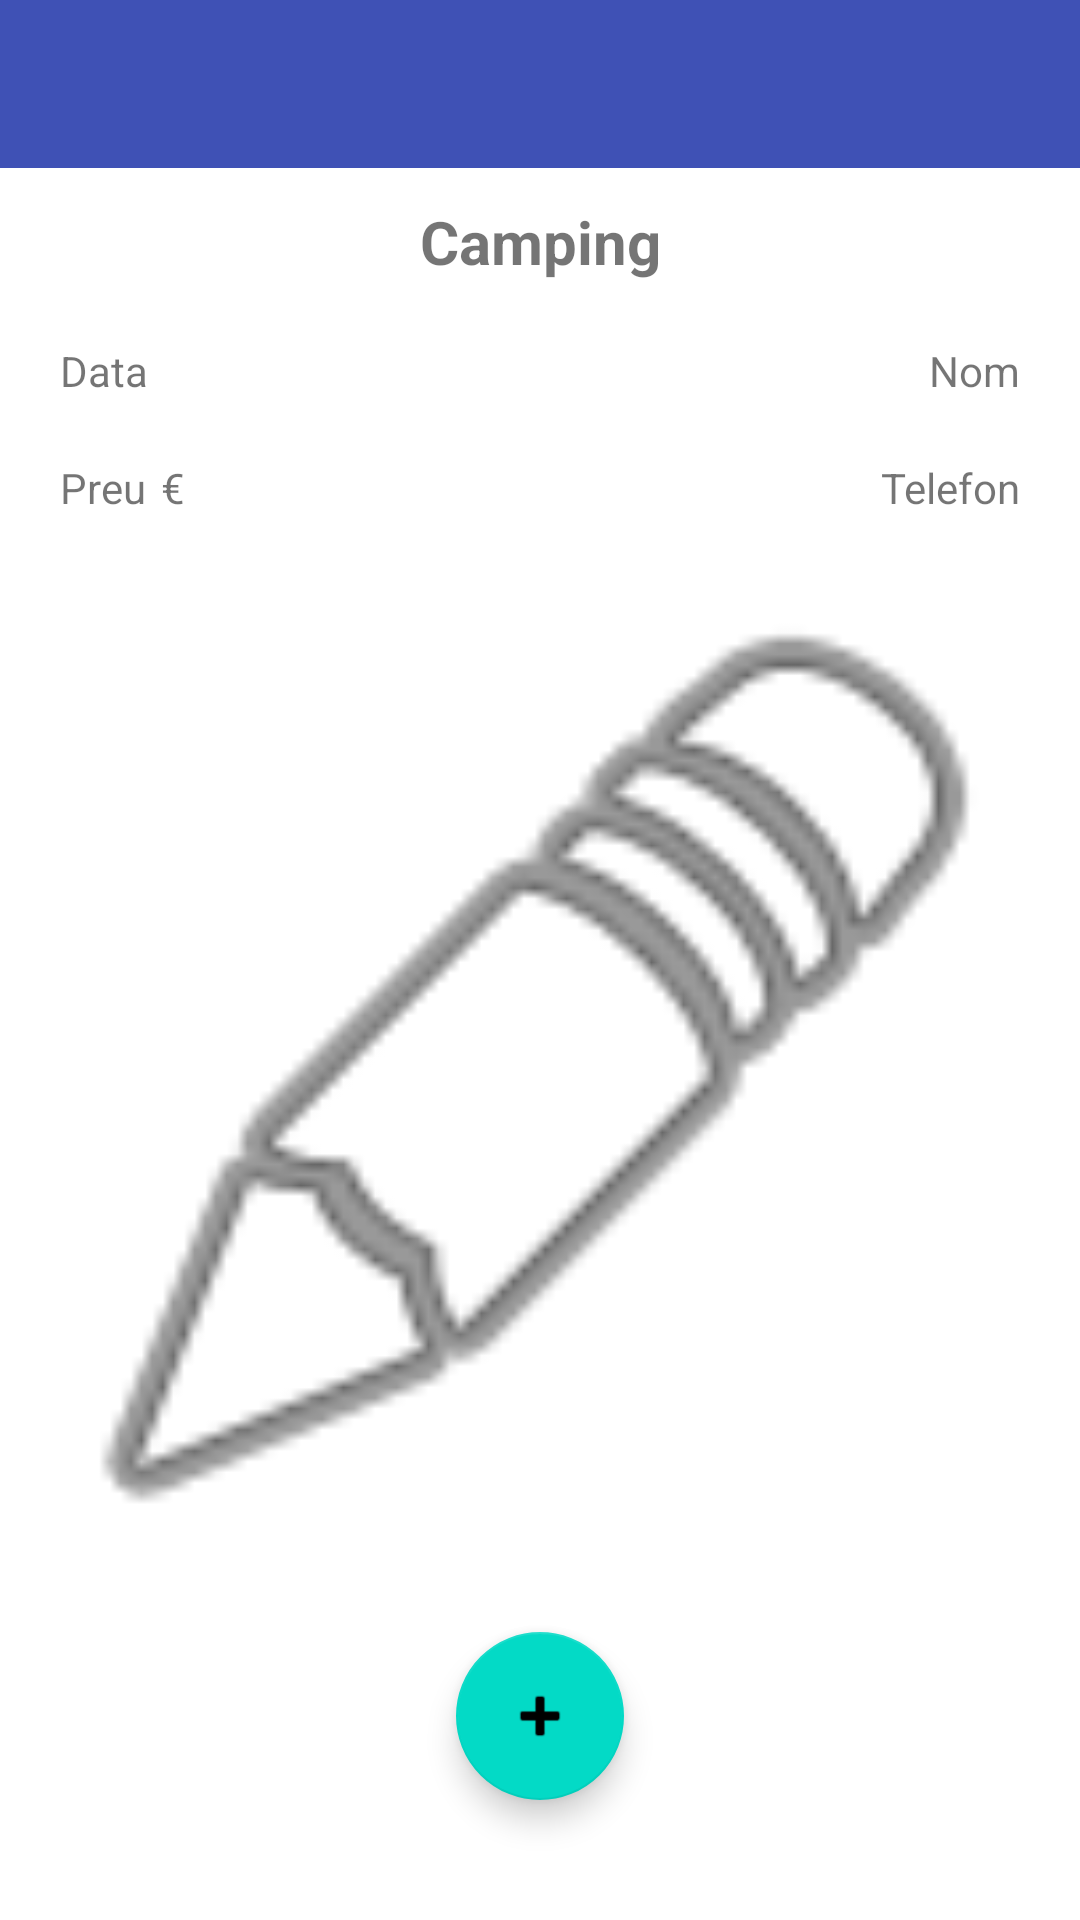

Screen size 1080w x 1920h. Icon name, then its center in pixels as (x=x, y=y):
add: (x=540, y=1716)
